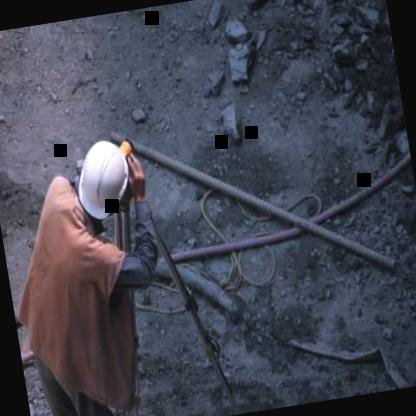helmet: (66, 132, 148, 240)
